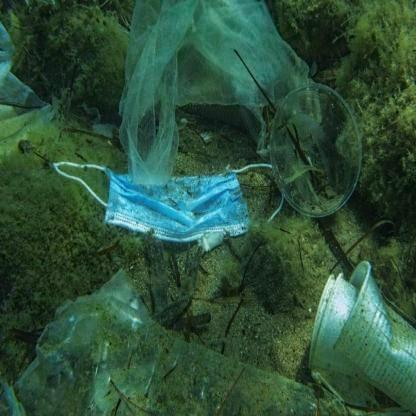Mask: (50, 154, 288, 242)
